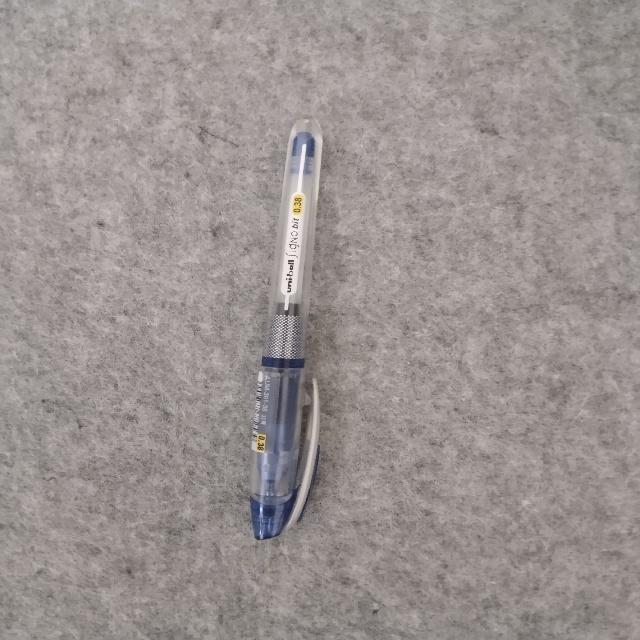pen: (250, 119, 321, 538)
